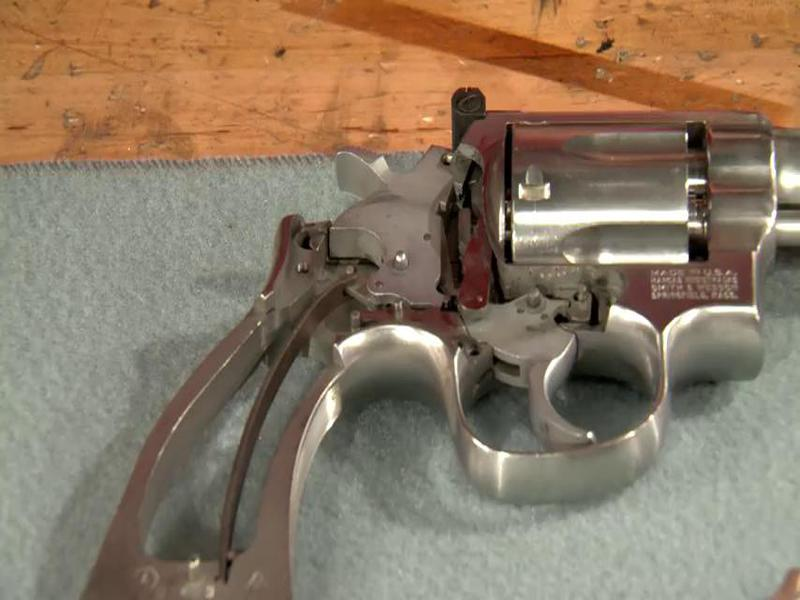Revolver: (87, 47, 800, 554)
